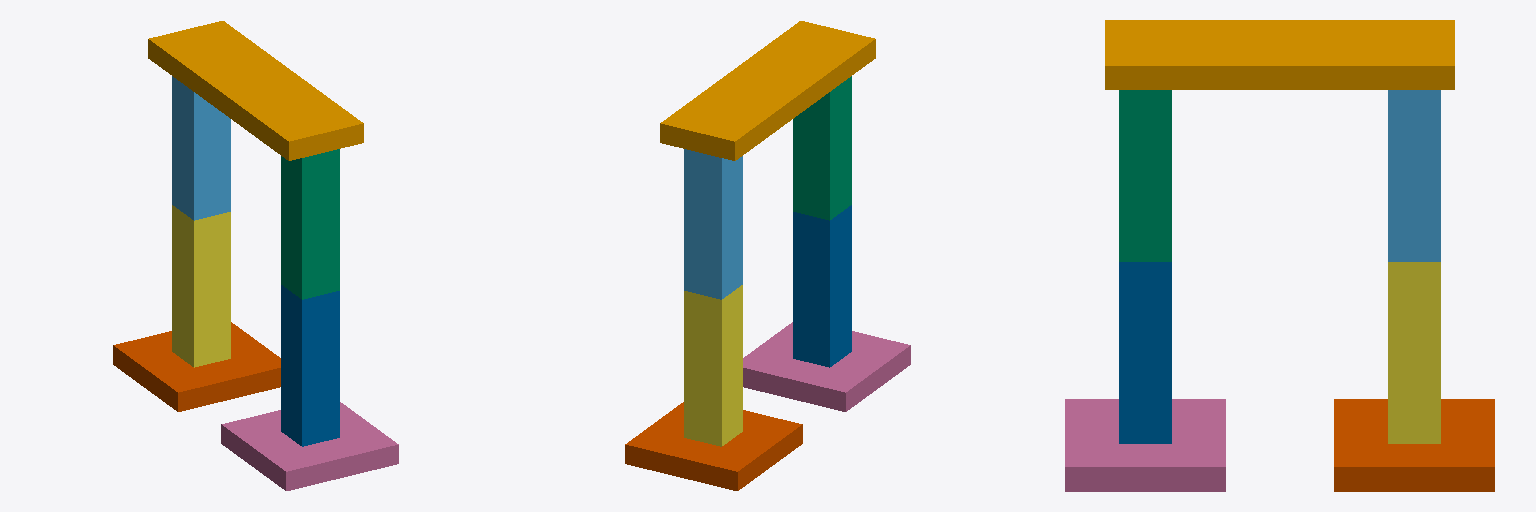
URDF robot description (biped):
<?xml version="1.0" encoding="UTF-8"?>
<robot name="biped">
    <link name="base">
        <inertial>
            <mass value="1.0" />
            <inertia ixx="1.0" ixy="0.0" ixz="0.0" iyy="1.0" iyz="0.0" izz="1.0" />
        </inertial>
        <visual name="visual">
            <geometry>
                <box size="0.2 0.65 0.05" />
            </geometry>
        </visual>
        <collision name="collision">
            <geometry>
                <box size="0.2 0.65 0.05" />
            </geometry>
        </collision>
    </link>

    <link name="leg_right_1">
        <inertial>
            <mass value="1.0" />
            <inertia ixx="1.0" ixy="0.0" ixz="0.0" iyy="1.0" iyz="0.0" izz="1.0" />
        </inertial>
        <visual name="visual">
            <geometry>
                <box size="0.1 0.1 0.4" />
            </geometry>
            <origin xyz="0 0 -0.2"/>
        </visual>
        <collision name="collision">
            <geometry>
                <box size="0.1 0.1 0.4" />
            </geometry>
            <origin xyz="0 0 -0.2"/>
        </collision>
    </link>
    
    <link name="leg_left_1">
        <inertial>
            <mass value="1.0" />
            <inertia ixx="1.0" ixy="0.0" ixz="0.0" iyy="1.0" iyz="0.0" izz="1.0" />
        </inertial>
        <visual name="visual">
            <geometry>
                <box size="0.1 0.1 0.4" />
            </geometry>
            <origin xyz="0 0 -0.2"/>
        </visual>
        <collision name="collision">
            <geometry>
                <box size="0.1 0.1 0.4" />
            </geometry>
            <origin xyz="0 0 -0.2"/>
        </collision>
    </link>

    <link name="leg_right_2">
        <inertial>
            <mass value="1.0" />
            <inertia ixx="1.0" ixy="0.0" ixz="0.0" iyy="1.0" iyz="0.0" izz="1.0" />
        </inertial>
        <visual name="visual">
            <geometry>
                <box size="0.1 0.1 0.4" />
            </geometry>
            <origin xyz="0 0 -0.2"/>
        </visual>
        <collision name="collision">
            <geometry>
                <box size="0.1 0.1 0.4" />
            </geometry>
            <origin xyz="0 0 -0.2"/>
        </collision>
    </link>
   
    <link name="leg_left_2">
        <inertial>
            <mass value="1.0" />
            <inertia ixx="1.0" ixy="0.0" ixz="0.0" iyy="1.0" iyz="0.0" izz="1.0" />
        </inertial>
        <visual name="visual">
            <geometry>
                <box size="0.1 0.1 0.4" />
            </geometry>
            <origin xyz="0 0 -0.2"/>
        </visual>
        <collision name="collision">
            <geometry>
                <box size="0.1 0.1 0.4" />
            </geometry>
            <origin xyz="0 0 -0.2"/>
        </collision>
    </link>

    <link name="feet_right">
        <inertial>
            <mass value="1.0" />
            <inertia ixx="1.0" ixy="0.0" ixz="0.0" iyy="1.0" iyz="0.0" izz="1.0" />
        </inertial>
        <visual name="visual">
            <geometry>
                <box size="0.3 0.3 0.05" />
            </geometry>
        </visual>
        <collision name="collision">
            <geometry>
                <box size="0.3 0.3 0.05" />
            </geometry>
        </collision>
    </link>

    <link name="feet_left">
        <inertial>
            <mass value="1.0" />
            <inertia ixx="1.0" ixy="0.0" ixz="0.0" iyy="1.0" iyz="0.0" izz="1.0" />
        </inertial>
        <visual name="visual">
            <geometry>
                <box size="0.3 0.3 0.05" />
            </geometry>
        </visual>
        <collision name="collision">
            <geometry>
                <box size="0.3 0.3 0.05" />
            </geometry>
        </collision>
    </link>

    <joint name="right_hip" type="continuous">
        <origin xyz="0 0.25 0" rpy="0 0 0" />
         <axis xyz = "0 1 0"/>
        <parent link="base" />
        <child link="leg_right_1" />
    </joint>

    <joint name="left_hip" type="continuous">
        <origin xyz="0 -0.25 0" rpy="0 0 0" />
         <axis xyz = "0 1 0"/>
        <parent link="base" />
        <child link="leg_left_1" />
    </joint>

    <joint name="right_knee" type="revolute">
        <origin xyz="0 0 -0.4" rpy="0 0 0" />
        <axis xyz = "0 1 0"/>
        <limit upper = "1" effort = "1" velocity = "1"/>
        <parent link="leg_right_1" />
        <child link="leg_right_2" />
    </joint>

    <joint name="left_knee" type="revolute">
        <origin xyz="0 0 -0.4" rpy="0 0 0" />
        <axis xyz = "0 1 0"/>
        <limit upper = "1" effort = "1" velocity = "1"/>
        <parent link="leg_left_1" />
        <child link="leg_left_2" />
    </joint>

    <joint name="right_ankle" type="continuous">
        <origin xyz="0 0 -0.4" rpy="0 0 0" />
        <axis xyz = "0 1 0"/>
        <parent link="leg_right_2" />
        <child link="feet_right" />
    </joint>

    <joint name="left_ankle" type="continuous">
        <origin xyz="0 0 -0.4" rpy="0 0 0" />
        <axis xyz = "0 1 0"/>
        <parent link="leg_left_2" />
        <child link="feet_left" />
    </joint>

    
</robot>

--- Facts derived from the render (not from the file) ---
The picture shows the robot from 3 angles, left to right: view 1: azimuth 30°, elevation 25°; view 2: azimuth 150°, elevation 25°; view 3: azimuth 270°, elevation 25°; orthographic projection.
Model biped with 7 links and 6 joints (2 revolute, 4 continuous), rooted at base, posed every joint at zero.
Visible links, largest first — view 1: base, leg_left_2, leg_right_2, feet_left, leg_left_1, feet_right, leg_right_1; view 2: base, leg_right_2, leg_left_2, feet_right, leg_right_1, feet_left, leg_left_1; view 3: base, feet_right, feet_left, leg_right_2, leg_left_2, leg_right_1, leg_left_1.
Boxes of the visible links, x1,y1,x2,y2 form: base: (148, 21, 363, 160); leg_left_2: (281, 285, 339, 446); leg_right_2: (172, 205, 230, 367); feet_left: (221, 402, 398, 490); leg_left_1: (281, 149, 339, 299); feet_right: (113, 322, 280, 411); leg_right_1: (172, 76, 230, 220); base: (660, 21, 875, 160); leg_right_2: (684, 285, 742, 446); leg_left_2: (793, 205, 851, 367); feet_right: (625, 402, 802, 490); leg_right_1: (684, 149, 742, 299); feet_left: (743, 322, 910, 411); leg_left_1: (793, 76, 851, 220); base: (1105, 20, 1454, 89); feet_right: (1334, 399, 1494, 491); feet_left: (1065, 399, 1225, 491); leg_right_2: (1388, 262, 1440, 443); leg_left_2: (1119, 262, 1171, 443); leg_right_1: (1388, 90, 1440, 261); leg_left_1: (1119, 90, 1171, 261).
Size in the robot's own frame: 0.3 by 0.8 by 0.85 metres.
Geometry: primitives only (box / cylinder / sphere), no mesh files.